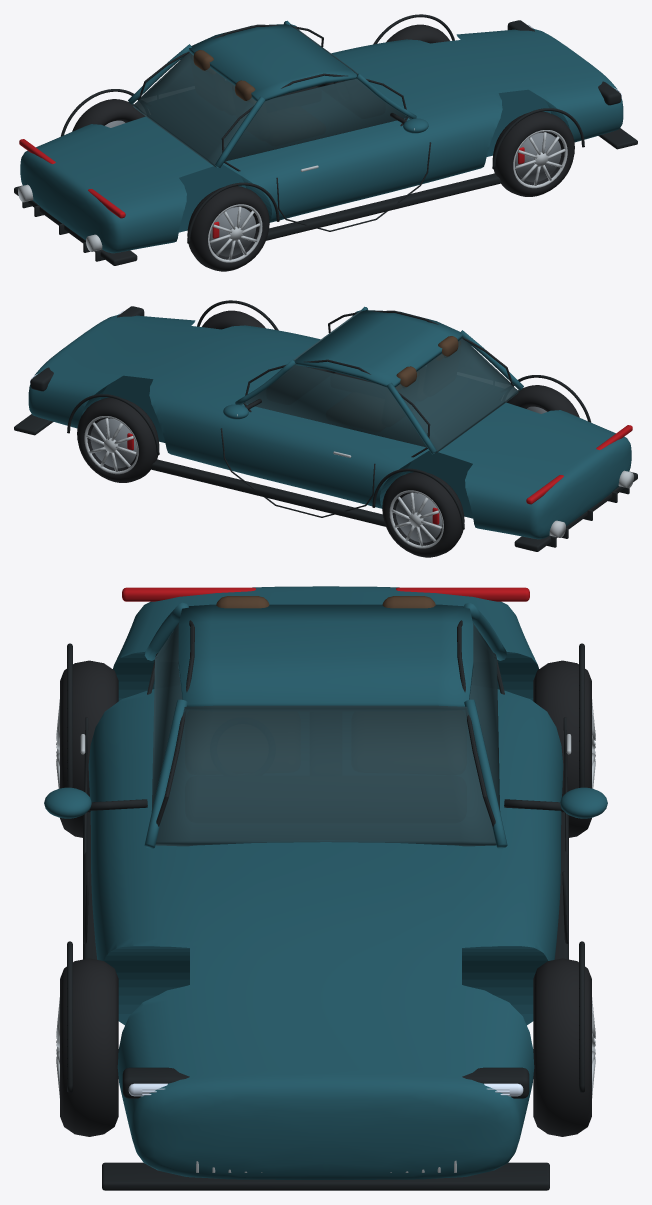
The model's file is asset.glb.
3 views of the same model, one above another, from view 1: azimuth 30°, elevation 25°; view 2: azimuth 150°, elevation 25°; view 3: azimuth 270°, elevation 25° (orthographic). The views are drawn at different scales.
Visible parts, largest first — view 1: chassis, roof, side_glass_left, rear_glass, tyre_rear_left, tyre_front_left, sill_left, tyre_rear_right, brake_rear_left, brake_front_left, tyre_front_right, rear_diffuser (+11 smaller); view 2: chassis, roof, side_glass_right, rear_glass, tyre_rear_right, tyre_front_right, sill_right, tyre_rear_left, brake_rear_right, brake_front_right, tyre_front_left, rear_diffuser (+11 smaller); view 3: chassis, windshield, roof, tyre_front_left, tyre_front_right, front_splitter, tyre_rear_left, tyre_rear_right, side_glass_left, side_glass_right, a_pillar_left, a_pillar_right (+14 smaller).
Boxes of the visible parts, left/top/right/bottom form: chassis: left=20, top=28, right=623, bottom=253; roof: left=189, top=24, right=356, bottom=101; side_glass_left: left=225, top=78, right=407, bottom=161; rear_glass: left=133, top=52, right=256, bottom=167; tyre_rear_left: left=187, top=186, right=269, bottom=271; tyre_front_left: left=492, top=111, right=574, bottom=196; sill_left: left=266, top=173, right=501, bottom=240; tyre_rear_right: left=72, top=99, right=145, bottom=131; brake_rear_left: left=209, top=207, right=256, bottom=256; brake_front_left: left=515, top=132, right=561, bottom=182; tyre_front_right: left=386, top=24, right=449, bottom=43; rear_diffuser: left=14, top=185, right=137, bottom=265; chassis: left=28, top=314, right=631, bottom=539; roof: left=295, top=310, right=462, bottom=387; side_glass_right: left=244, top=364, right=426, bottom=447; rear_glass: left=395, top=338, right=518, bottom=453; tyre_rear_right: left=382, top=472, right=464, bottom=557; tyre_front_right: left=77, top=397, right=159, bottom=482; sill_right: left=150, top=459, right=385, bottom=526; tyre_rear_left: left=506, top=385, right=579, bottom=417; brake_rear_right: left=395, top=493, right=442, bottom=542; brake_front_right: left=90, top=418, right=136, bottom=468; tyre_front_left: left=202, top=310, right=265, bottom=329; rear_diffuser: left=514, top=471, right=637, bottom=551; chassis: left=88, top=586, right=563, bottom=1179; windshield: left=155, top=705, right=496, bottom=846; roof: left=178, top=604, right=473, bottom=706; tyre_front_left: left=60, top=958, right=118, bottom=1136; tyre_front_right: left=533, top=958, right=591, bottom=1136; front_splitter: left=102, top=1162, right=549, bottom=1190; tyre_rear_left: left=60, top=660, right=118, bottom=837; tyre_rear_right: left=533, top=660, right=591, bottom=837; side_glass_left: left=151, top=623, right=182, bottom=811; side_glass_right: left=469, top=623, right=500, bottom=811; a_pillar_left: left=144, top=699, right=187, bottom=848; a_pillar_right: left=464, top=699, right=507, bottom=848.
Size of the model in its own units: 4.83 by 1.29 by 2.24.
